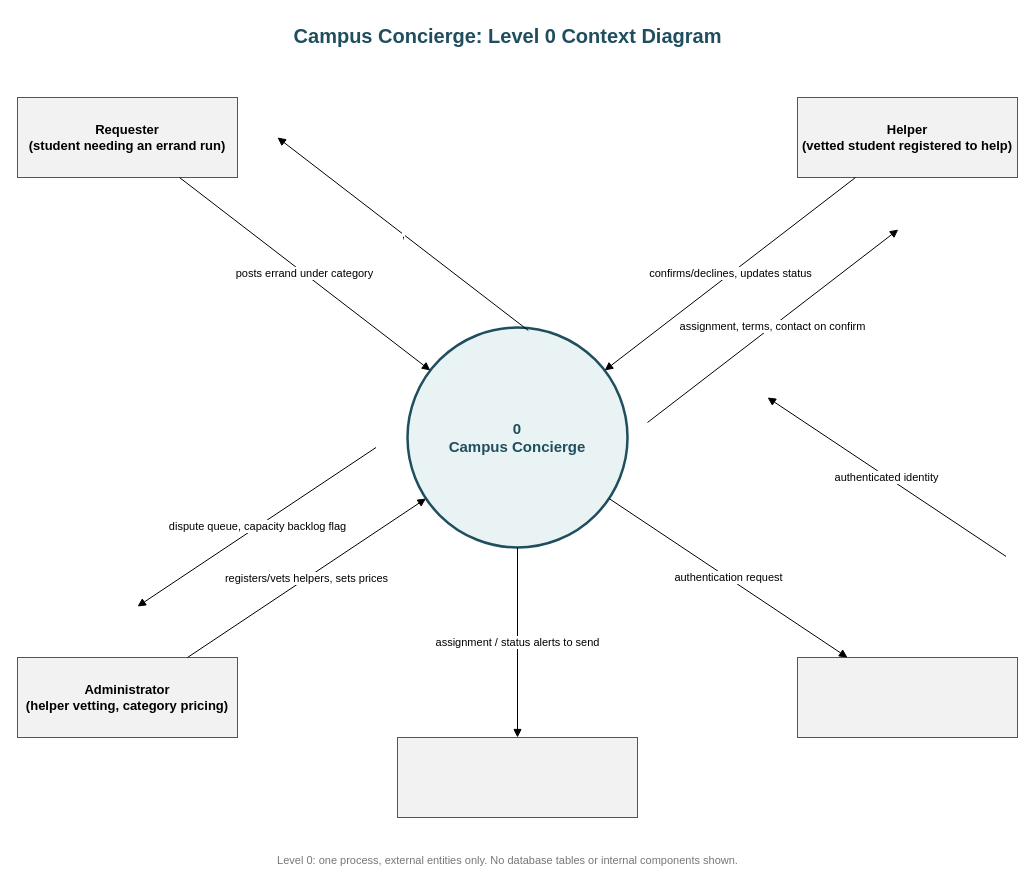
Image size: 1035x894. Some labels were removed from this diagram. Each missing label, with the centre of its shape:
"Identity Service (university student login)" belongs at [907,697].
"Notification Service (email / SMS delivery channel)" belongs at [517,777].
